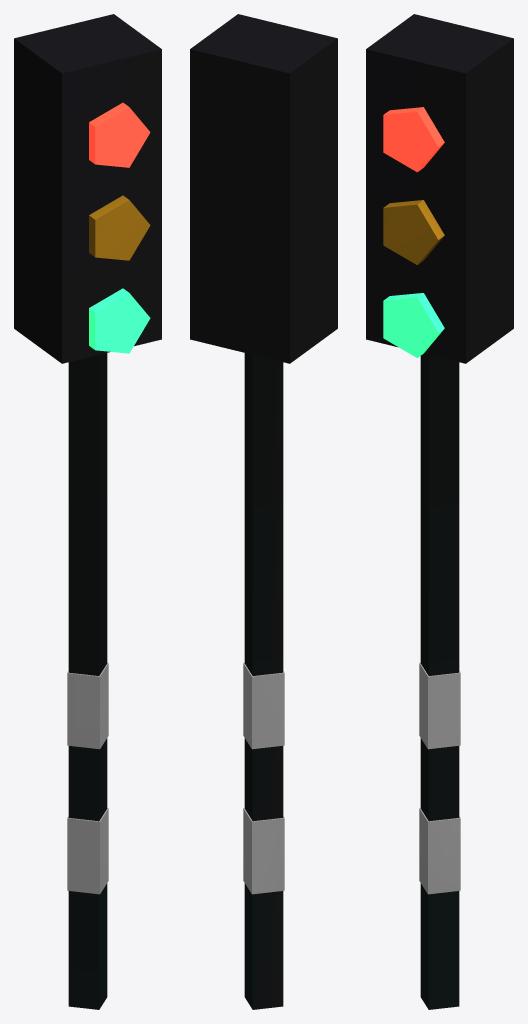
Rendered from ld_traffic_lo-LWZ-zGub.glb.
3 views of the same model, side by side, from view 1: azimuth 30°, elevation 25°; view 2: azimuth 150°, elevation 25°; view 3: azimuth 330°, elevation 25° (orthographic).
Size of the model in its own units: 0.36 by 3.3 by 0.3501.
